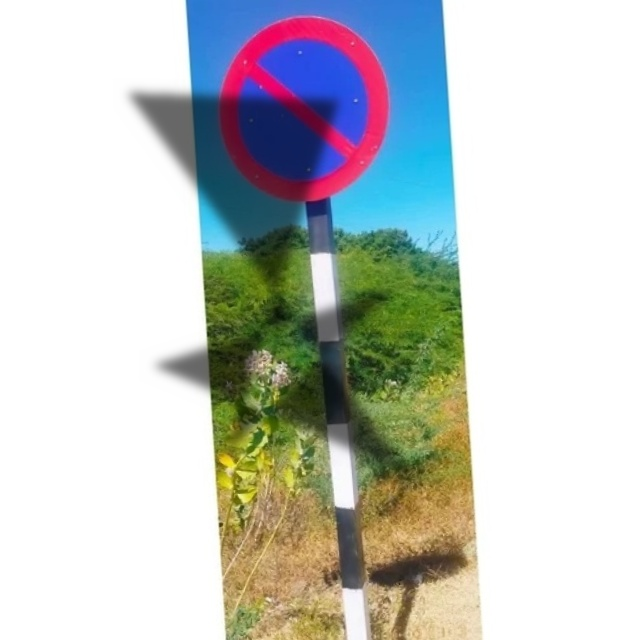No_Stopping_or_Standing: (222, 13, 387, 204)
